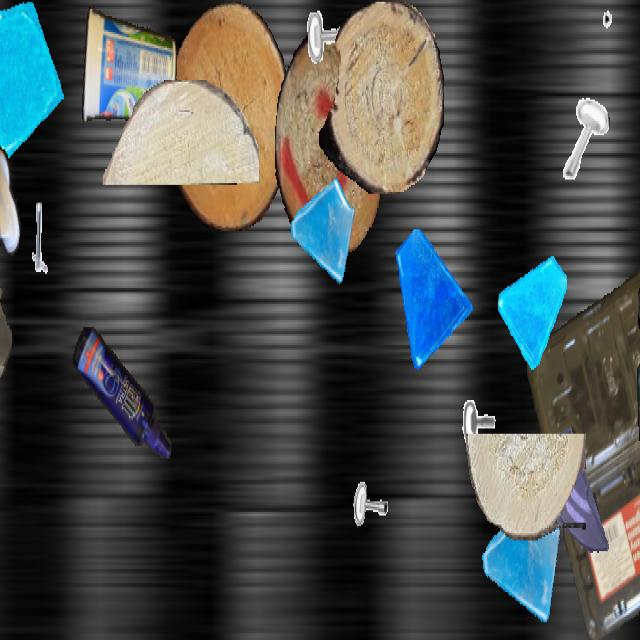glass: (480, 489, 564, 638), (393, 230, 473, 372), (534, 416, 614, 558), (0, 2, 69, 165), (289, 172, 357, 294), (498, 247, 566, 368)
metal: (301, 2, 361, 108), (347, 439, 399, 532), (559, 92, 609, 182), (9, 188, 59, 278), (460, 366, 506, 448), (602, 2, 640, 73)
plastic: (527, 265, 640, 638), (73, 327, 171, 459), (80, 2, 176, 126), (0, 144, 21, 297), (0, 240, 12, 396), (637, 316, 640, 462)
wood: (167, 2, 291, 229), (319, 2, 443, 194), (275, 36, 383, 252), (102, 80, 258, 183), (466, 434, 586, 540), (638, 245, 640, 374)
